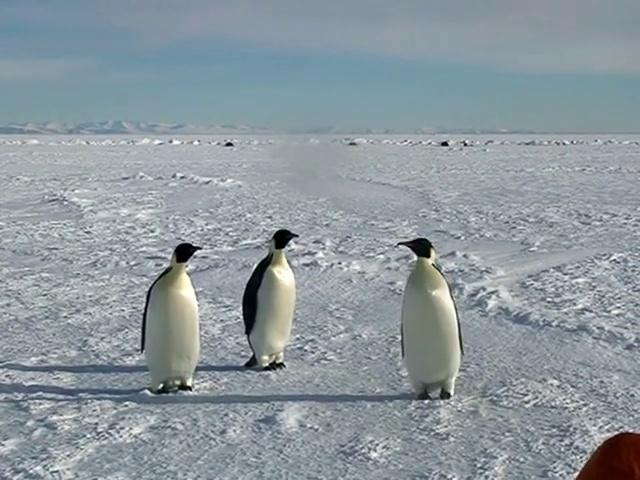animal: (399, 239, 465, 400)
